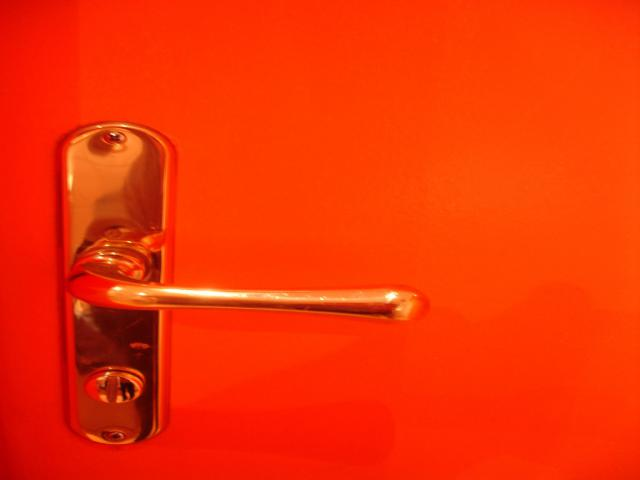Door-handle: (57, 118, 417, 446)
